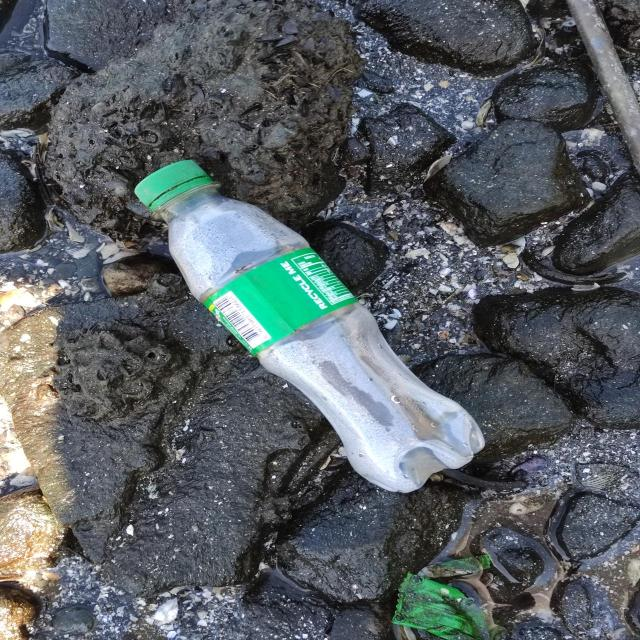plastic_waste: (133, 158, 485, 492), (388, 569, 490, 640)
